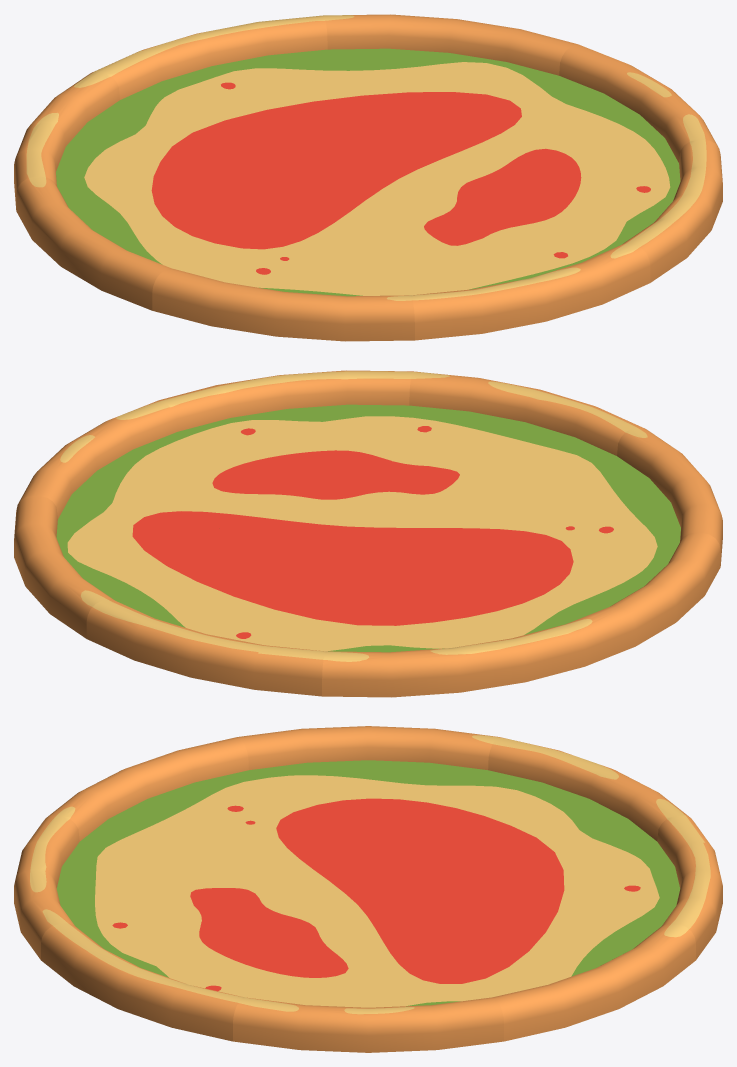
Rendered from Dough Pesto B.fbx.
3 views of the same model, one above another, from view 1: azimuth 30°, elevation 25°; view 2: azimuth 150°, elevation 25°; view 3: azimuth 270°, elevation 25° (orthographic).
Parts seen in each view (by area): view 1: Dough.039, Dough.035, Dough.038, Dough.034, Dough.040, Dough.036, Dough.037, Dough.041; view 2: Dough.041, Dough.037, Dough.034, Dough.038, Dough.040, Dough.036, Dough.035, Dough.039; view 3: Dough.040, Dough.036, Dough.035, Dough.037, Dough.039, Dough.041, Dough.034, Dough.038.
Part boxes in pixels (left/top/right/bottom): Dough.039: left=152, top=181, right=414, bottom=341; Dough.035: left=323, top=14, right=577, bottom=180; Dough.038: left=368, top=181, right=650, bottom=340; Dough.034: left=96, top=15, right=368, bottom=180; Dough.040: left=16, top=176, right=367, bottom=310; Dough.036: left=369, top=44, right=718, bottom=180; Dough.037: left=369, top=140, right=722, bottom=282; Dough.041: left=14, top=71, right=367, bottom=209; Dough.041: left=322, top=537, right=584, bottom=697; Dough.037: left=159, top=370, right=413, bottom=536; Dough.034: left=86, top=537, right=368, bottom=696; Dough.038: left=368, top=371, right=640, bottom=536; Dough.040: left=369, top=532, right=720, bottom=666; Dough.036: left=18, top=400, right=367, bottom=536; Dough.035: left=14, top=496, right=367, bottom=638; Dough.039: left=369, top=427, right=722, bottom=565; Dough.040: left=237, top=726, right=499, bottom=891; Dough.036: left=233, top=892, right=503, bottom=1052; Dough.035: left=369, top=892, right=695, bottom=1041; Dough.037: left=41, top=892, right=367, bottom=1041; Dough.039: left=46, top=737, right=367, bottom=891; Dough.041: left=369, top=737, right=690, bottom=891; Dough.034: left=369, top=815, right=722, bottom=959; Dough.038: left=14, top=815, right=367, bottom=959.
Size of the model in its own units: 2 by 0.1032 by 2.
